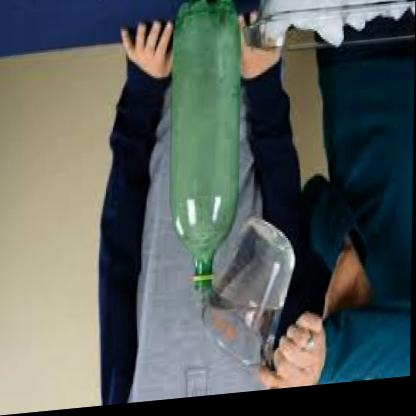Plastic: (157, 0, 244, 299)
